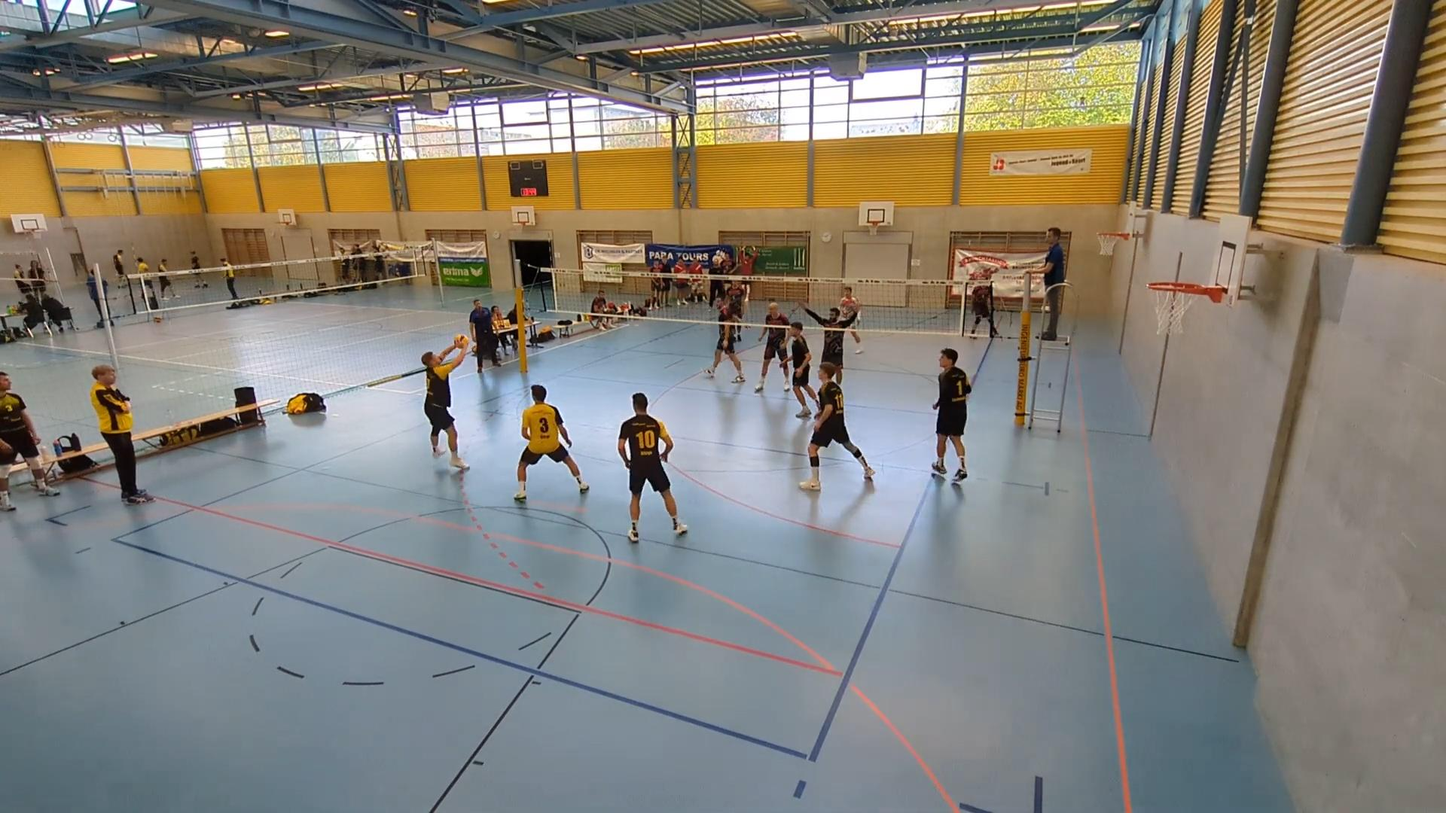ricezione: (419, 341, 469, 475)
